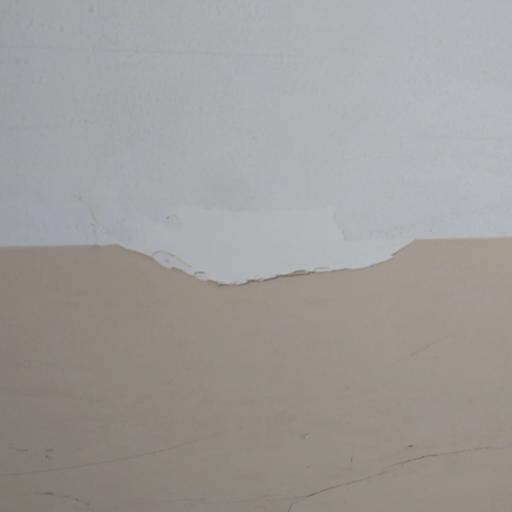peeling: (81, 160, 428, 299)
